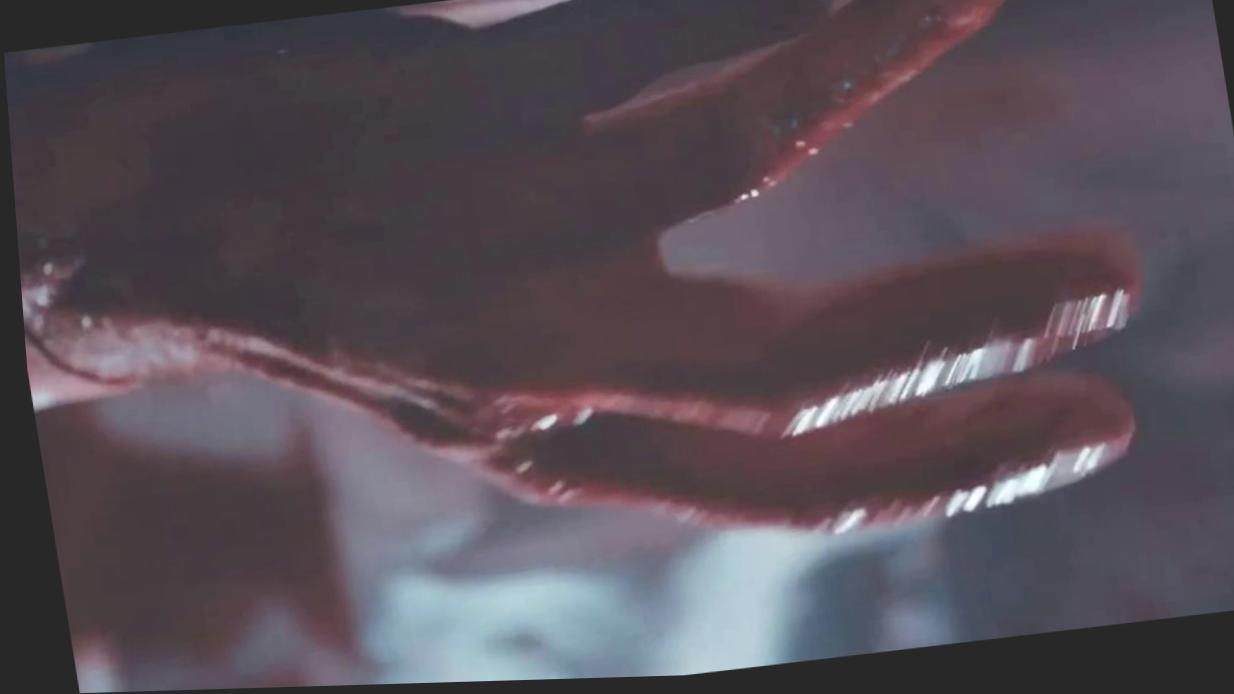Fire: (3, 0, 1137, 540), (28, 410, 343, 693)
